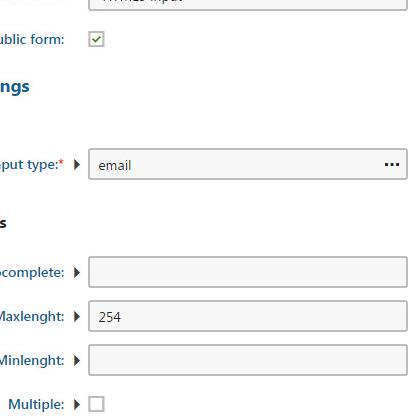checkbox: (86, 392, 106, 414), (85, 32, 105, 49)
checkbox_with_label: (6, 389, 111, 416)
field: (84, 253, 407, 290), (86, 342, 408, 379), (85, 146, 410, 182), (84, 299, 409, 331)
